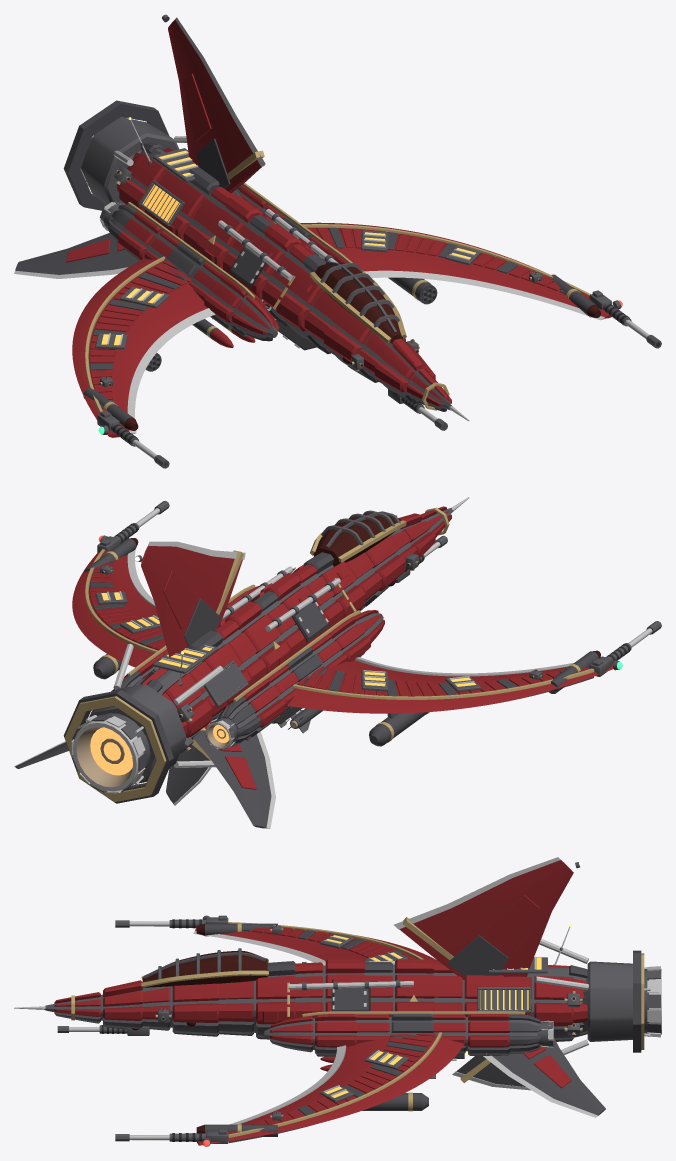
The model's file is enemy_fighter_c.glb.
3 views of the same model, one above another, from view 1: azimuth 30°, elevation 25°; view 2: azimuth 150°, elevation 25°; view 3: azimuth 270°, elevation 25° (orthographic). The views are drawn at different scales.
Visible parts, largest first — view 1: enemy_fighter_c; view 2: enemy_fighter_c; view 3: enemy_fighter_c.
Part boxes in pixels (<box>): enemy_fighter_c: <box>14,14,661,468</box>; enemy_fighter_c: <box>14,497,661,828</box>; enemy_fighter_c: <box>14,857,661,1146</box>.
Size of the model in its own units: 7.73 by 3.81 by 9.32.
